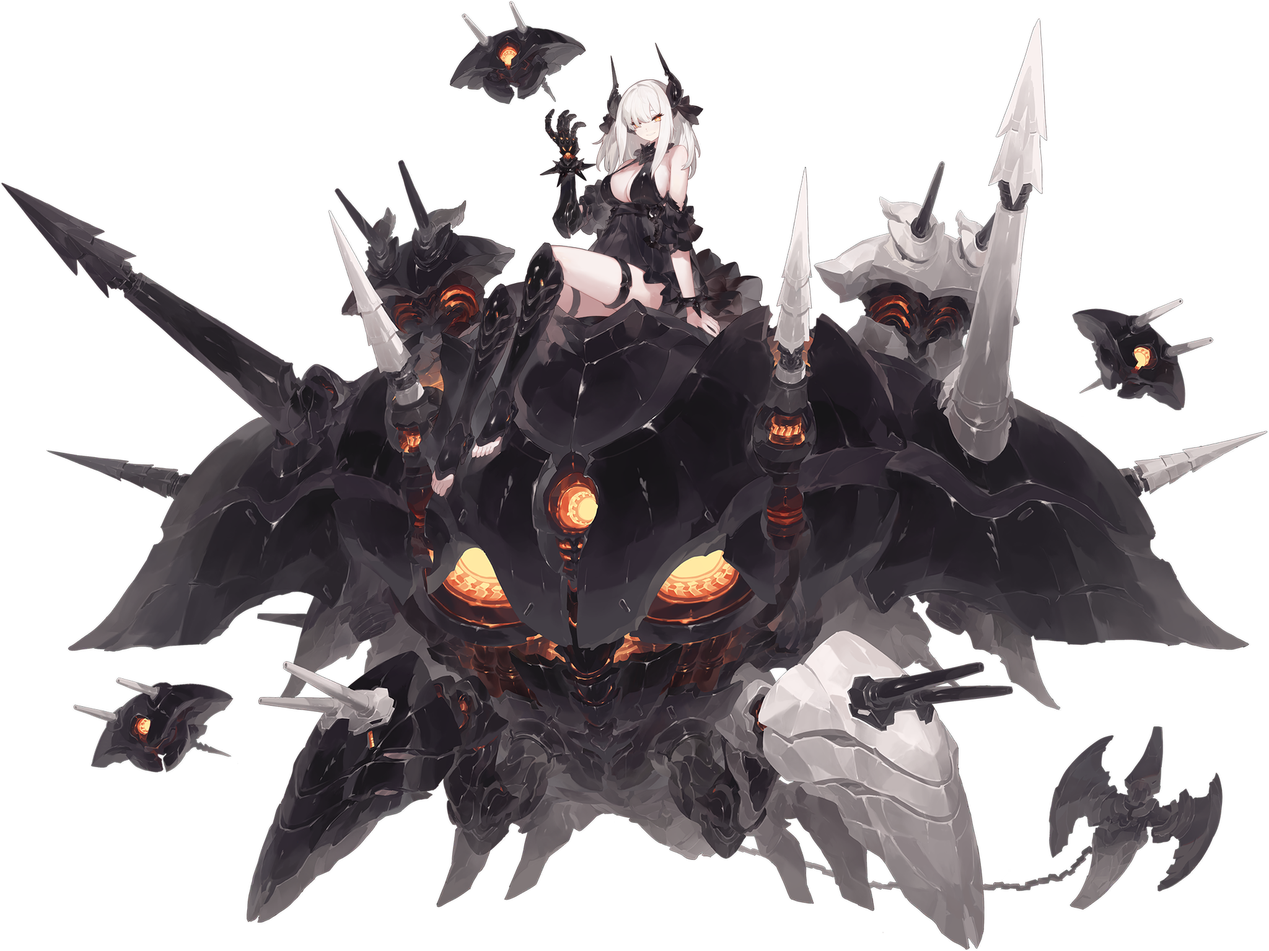person: (1, 1, 1267, 949)
